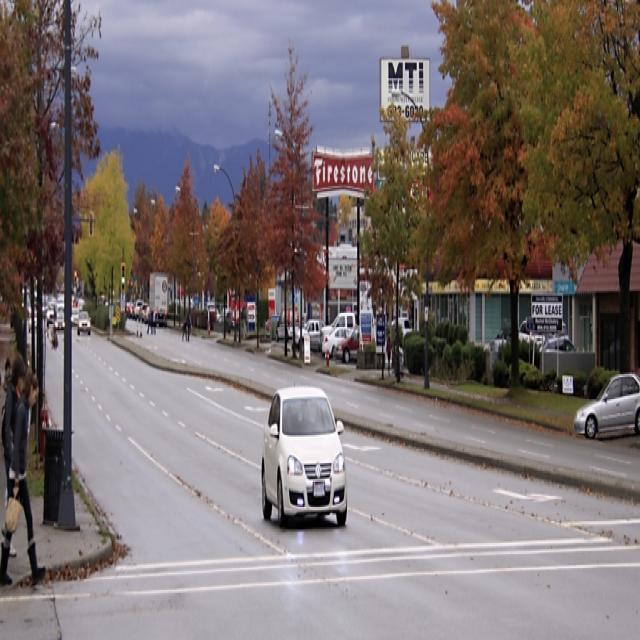car: (254, 371, 347, 532), (77, 302, 93, 336)
